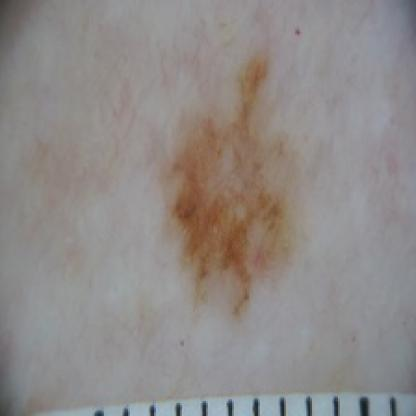malignant: (150, 54, 316, 314)
